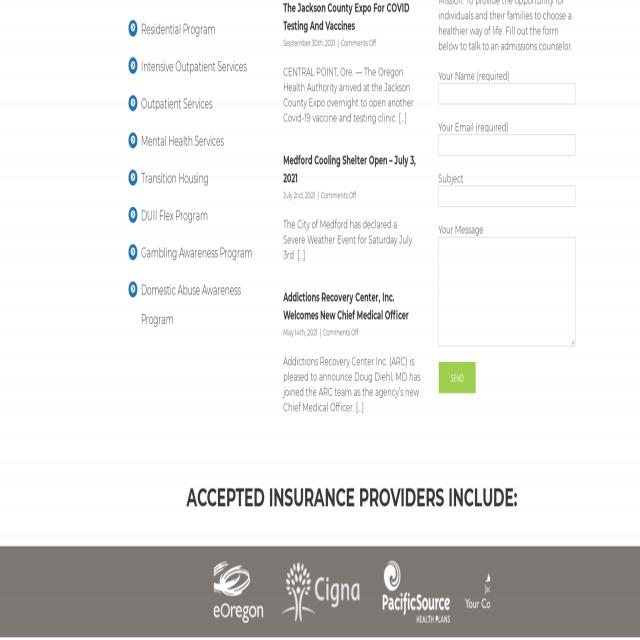button: (278, 281, 423, 428), (278, 0, 420, 137), (278, 144, 422, 277), (278, 557, 368, 627), (379, 554, 456, 630), (209, 552, 269, 627), (459, 555, 497, 628), (438, 361, 476, 394)
field: (439, 236, 575, 345), (438, 82, 576, 105), (438, 185, 576, 208), (438, 134, 575, 156)
